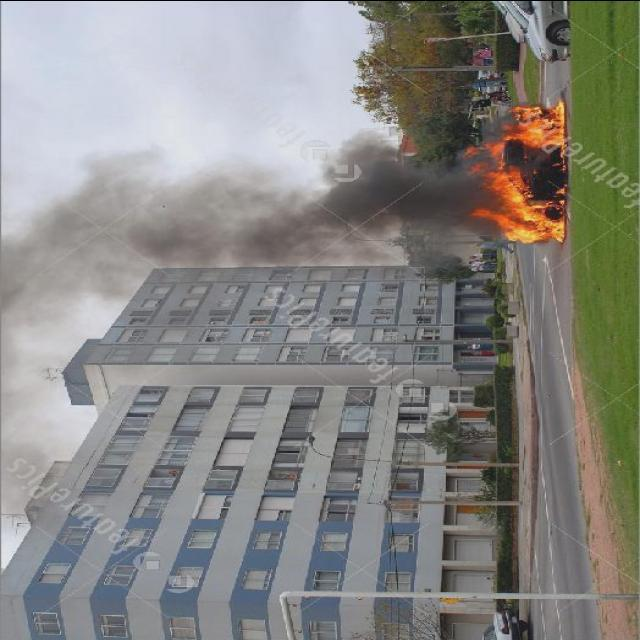Fire: (462, 91, 576, 258)
